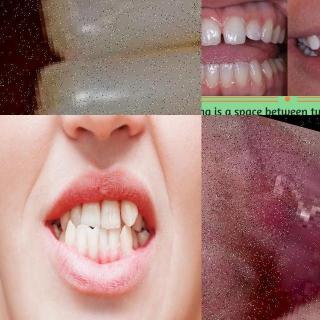Gum Swelling: (202, 186, 268, 320)
maligned: (118, 192, 140, 229), (118, 222, 136, 258), (81, 196, 101, 228), (88, 226, 102, 262), (75, 222, 89, 255), (64, 218, 77, 248), (69, 201, 81, 225), (138, 230, 152, 250)
